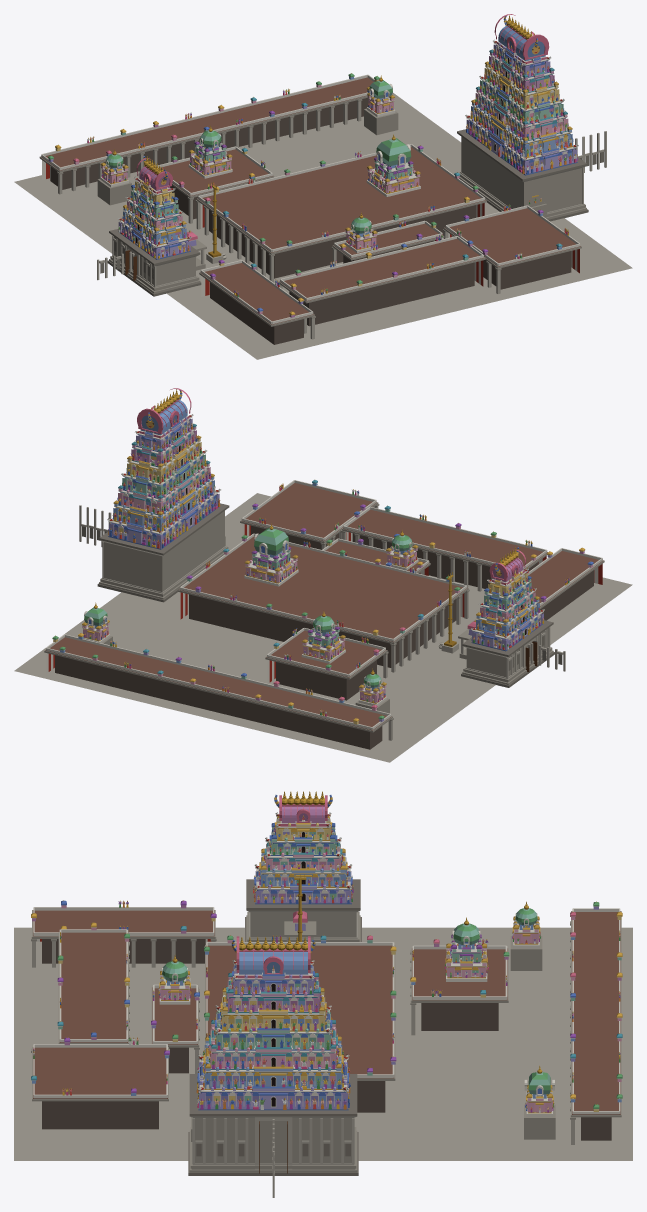
File: kapaleeshwarar_temple.glb
3 views of the same model, one above another, from view 1: azimuth 30°, elevation 25°; view 2: azimuth 150°, elevation 25°; view 3: azimuth 270°, elevation 25° (orthographic). The views are drawn at different scales.
Visible parts, largest first — view 1: kapaleeshwarar_temple; view 2: kapaleeshwarar_temple; view 3: kapaleeshwarar_temple.
Boxes of the visible parts, bbox=[...] form: kapaleeshwarar_temple: bbox=[14, 14, 632, 359]; kapaleeshwarar_temple: bbox=[14, 388, 632, 762]; kapaleeshwarar_temple: bbox=[14, 791, 632, 1197].
Size of the model in its own units: 110 by 36.31 by 93.
